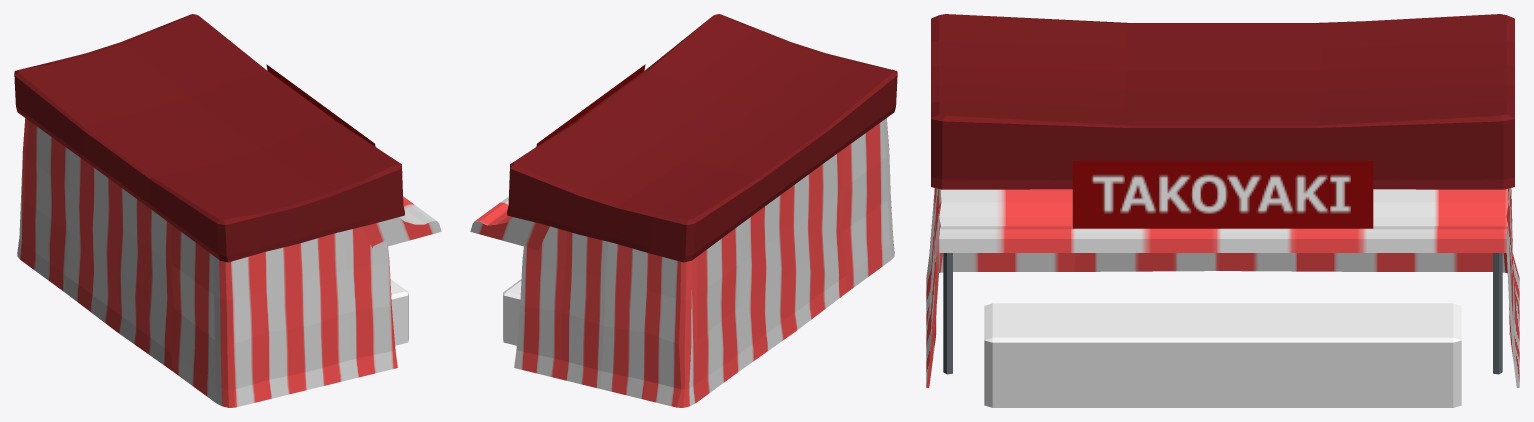
Rendered from rowyataiyakitorilong1.fbx.
3 renders of one model, left to right at view 1: azimuth 30°, elevation 25°; view 2: azimuth 150°, elevation 25°; view 3: azimuth 270°, elevation 25°, orthographic. The views are drawn at different scales.
Parts seen in each view (by area): view 1: Cube, 立方体, Cube.001, 立方体.001, 平面; view 2: Cube, 立方体, Cube.001, 立方体.001, 平面; view 3: Cube, 立方体.001, Cube.001, 平面, 立方体, 円柱.
Part boxes in pixels (bbox=[...]): Cube: bbox=[14, 14, 404, 262]; 立方体: bbox=[17, 118, 397, 407]; Cube.001: bbox=[362, 196, 441, 247]; 立方体.001: bbox=[390, 279, 408, 345]; 平面: bbox=[266, 64, 375, 146]; Cube: bbox=[507, 14, 897, 262]; 立方体: bbox=[514, 118, 894, 407]; Cube.001: bbox=[470, 196, 549, 250]; 立方体.001: bbox=[503, 279, 521, 345]; 平面: bbox=[536, 64, 645, 146]; Cube: bbox=[931, 14, 1514, 189]; 立方体.001: bbox=[984, 303, 1461, 407]; Cube.001: bbox=[939, 189, 1508, 252]; 平面: bbox=[1072, 161, 1373, 228]; 立方体: bbox=[926, 188, 1519, 387]; 円柱: bbox=[943, 253, 1502, 374].
Bounding box in the file's own units: 133 × 114 × 221.
3 materials, 3 textured.
